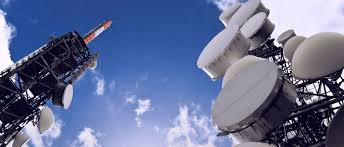ba: (207, 59, 293, 138), (194, 23, 248, 78)
